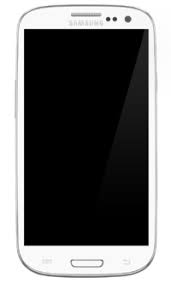samsung: (11, 1, 158, 279)
